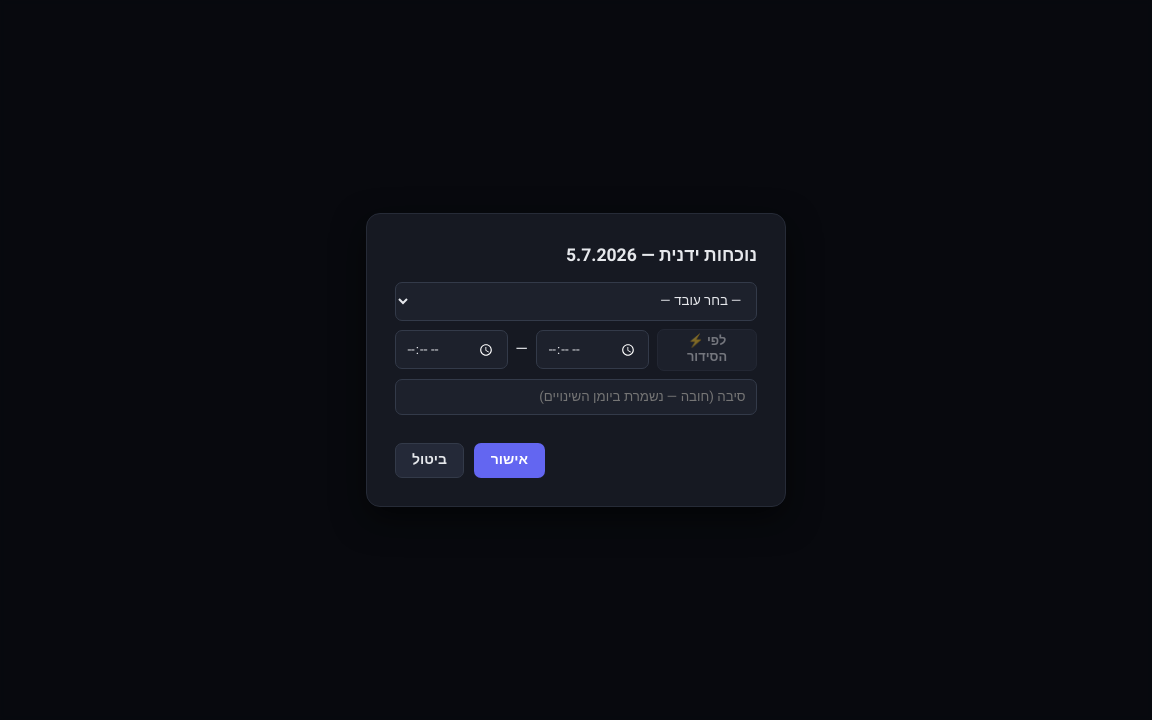
Scenario: ManualEntryDialog › selecting a no-telegram guard auto-fills the default reason
Select "📵 בלי טלגרם" in the dropdown named "עובד" at [576, 301], box left=395, top=282, right=757, bottom=321
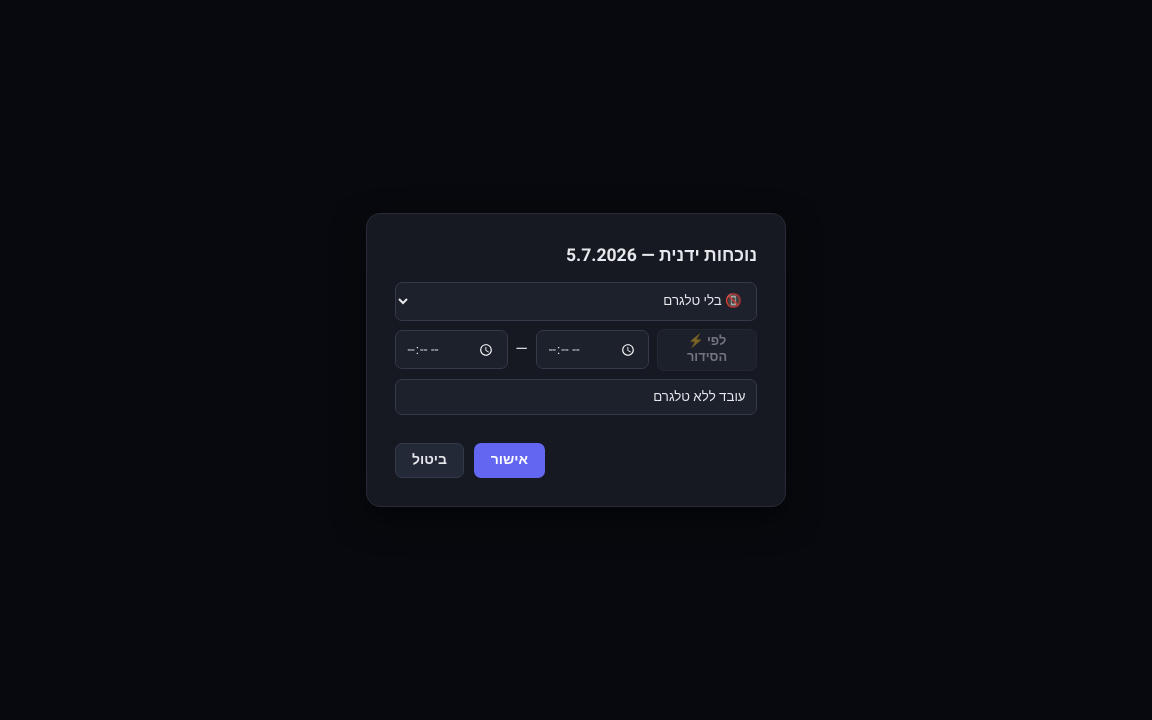
Now the field named "סיבה" holds "עובד ללא טלגרם", box left=395, top=379, right=757, bottom=415
